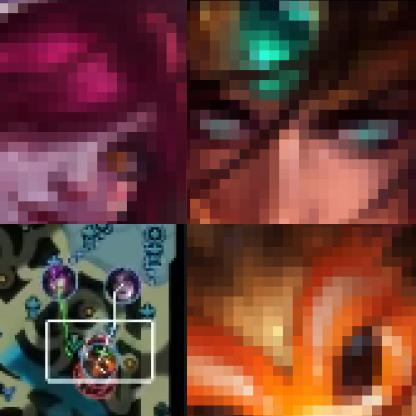Gnar: (187, 224, 415, 415)
Kai-sa: (106, 266, 142, 303)
Lee Sin: (85, 333, 120, 370)
Nautilus: (83, 343, 119, 379)
Sivir: (187, 0, 415, 223)
Syndra: (42, 264, 79, 301)
Xayah: (0, 0, 186, 223)
